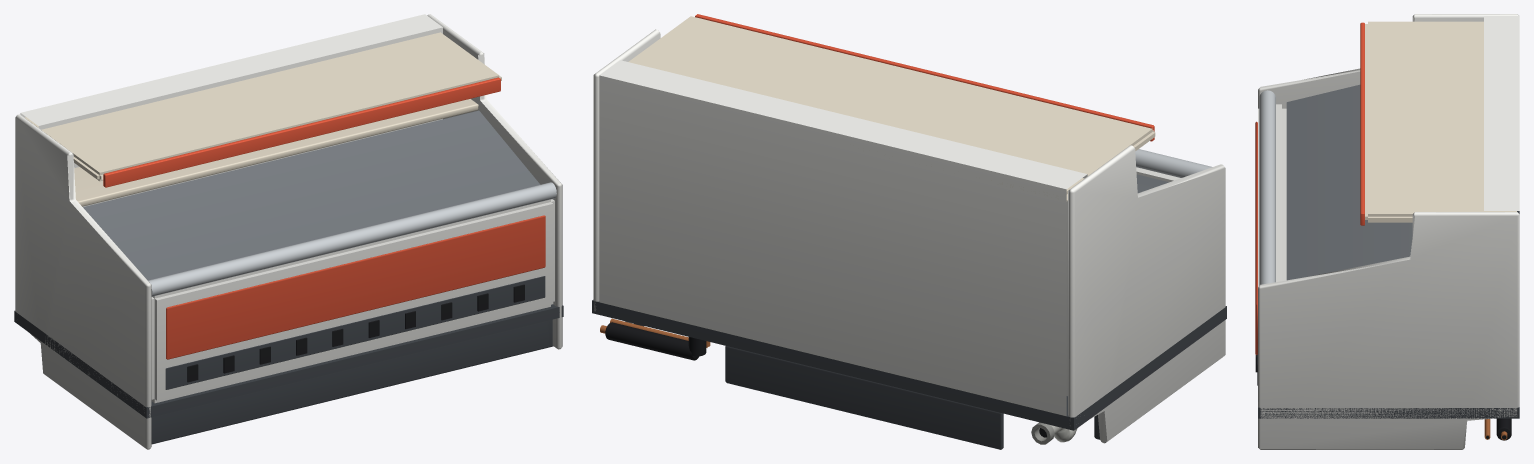
File: SelfServe_Meat_20.glb
The picture shows the model from 3 angles, left to right: view 1: azimuth 30°, elevation 25°; view 2: azimuth 150°, elevation 25°; view 3: azimuth 270°, elevation 25°; orthographic projection. The views are drawn at different scales.
Visible parts, largest first — view 1: SM_SelfServe_Meat_20; view 2: SM_SelfServe_Meat_20; view 3: SM_SelfServe_Meat_20.
Part boxes in pixels (box(x1,y1,x2,y2)): SM_SelfServe_Meat_20: box(14, 14, 563, 449); SM_SelfServe_Meat_20: box(592, 14, 1226, 449); SM_SelfServe_Meat_20: box(1255, 14, 1519, 449).
Bounding box in the file's own units: 2 × 1.1 × 1.11.
Materials: 1 (1 with a texture image).
